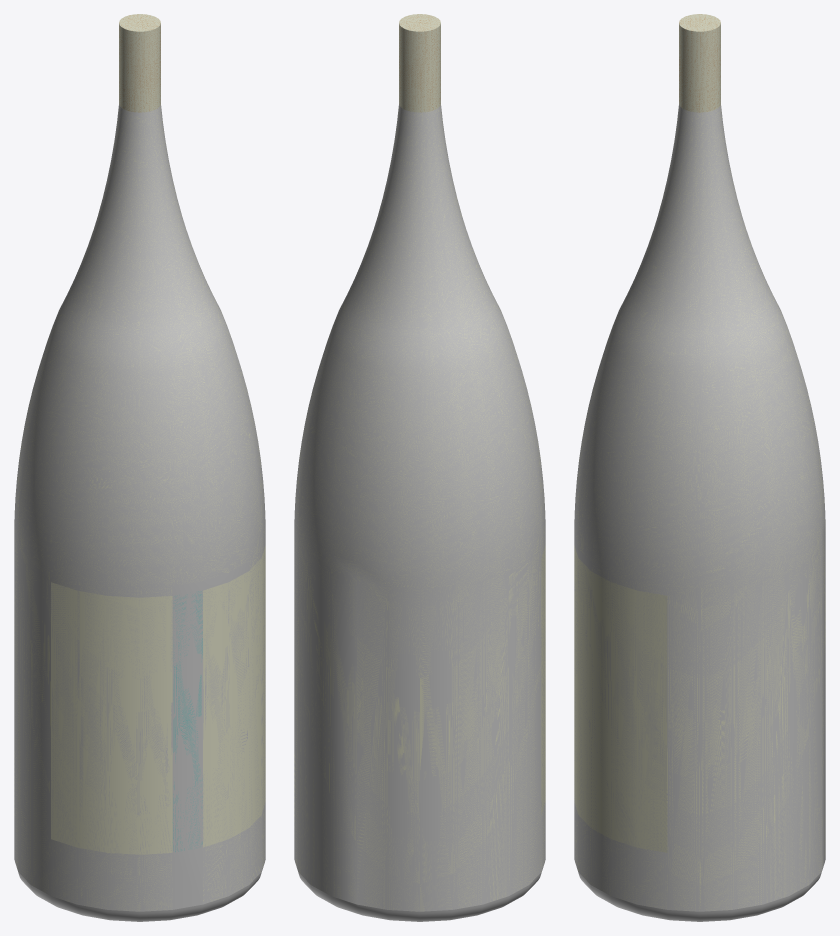
3 views of the same model, side by side, from view 1: azimuth 30°, elevation 25°; view 2: azimuth 150°, elevation 25°; view 3: azimuth 270°, elevation 25° (orthographic).
Visible parts, largest first — view 1: mesh1_mesh1-geometry; view 2: mesh1_mesh1-geometry; view 3: mesh1_mesh1-geometry.
Boxes of the visible parts, x1,y1,x2,y2 form: mesh1_mesh1-geometry: (14, 14, 265, 921); mesh1_mesh1-geometry: (294, 14, 545, 921); mesh1_mesh1-geometry: (574, 14, 825, 921).
Bounding box in the file's own units: 0.25 × 0.9354 × 0.25.
